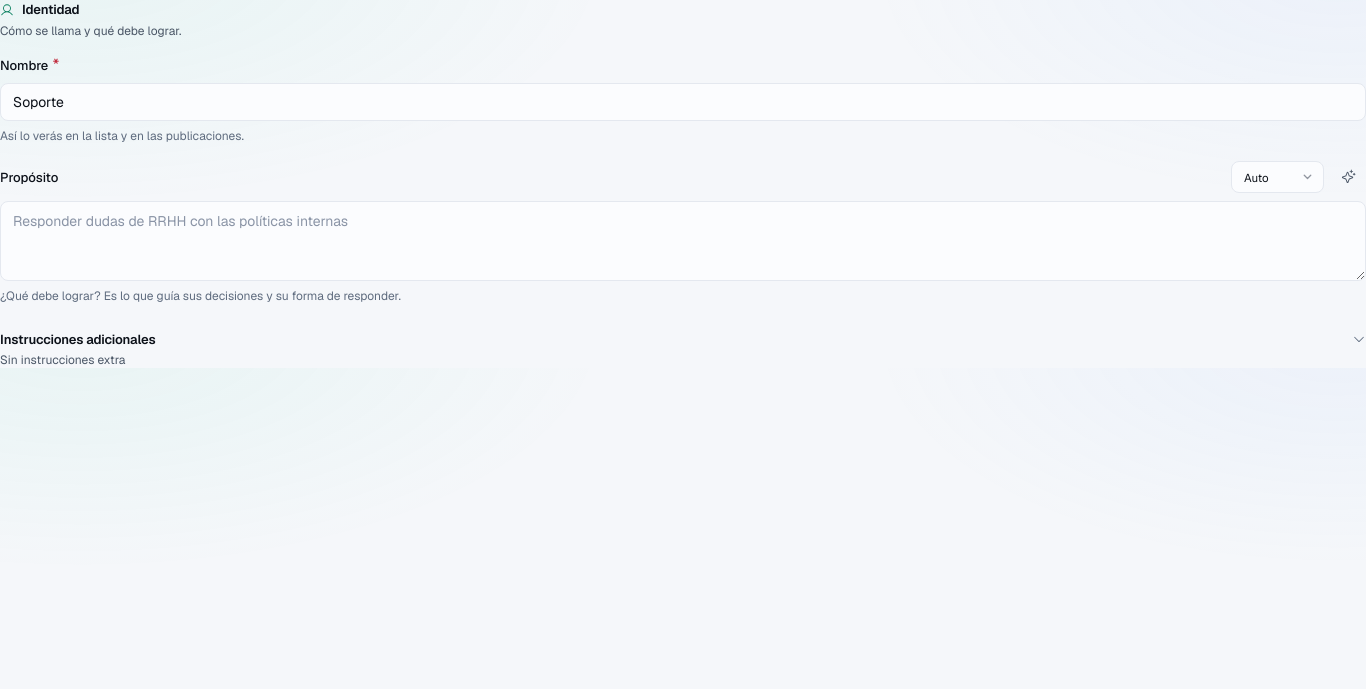
AgentPurposeForm › sin fallos: propuesta lista sin guardar
This screenshot has width=1366, height=689.
Click the button named "Generar propósito con IA": (1348, 176) [1330,158,1365,194]
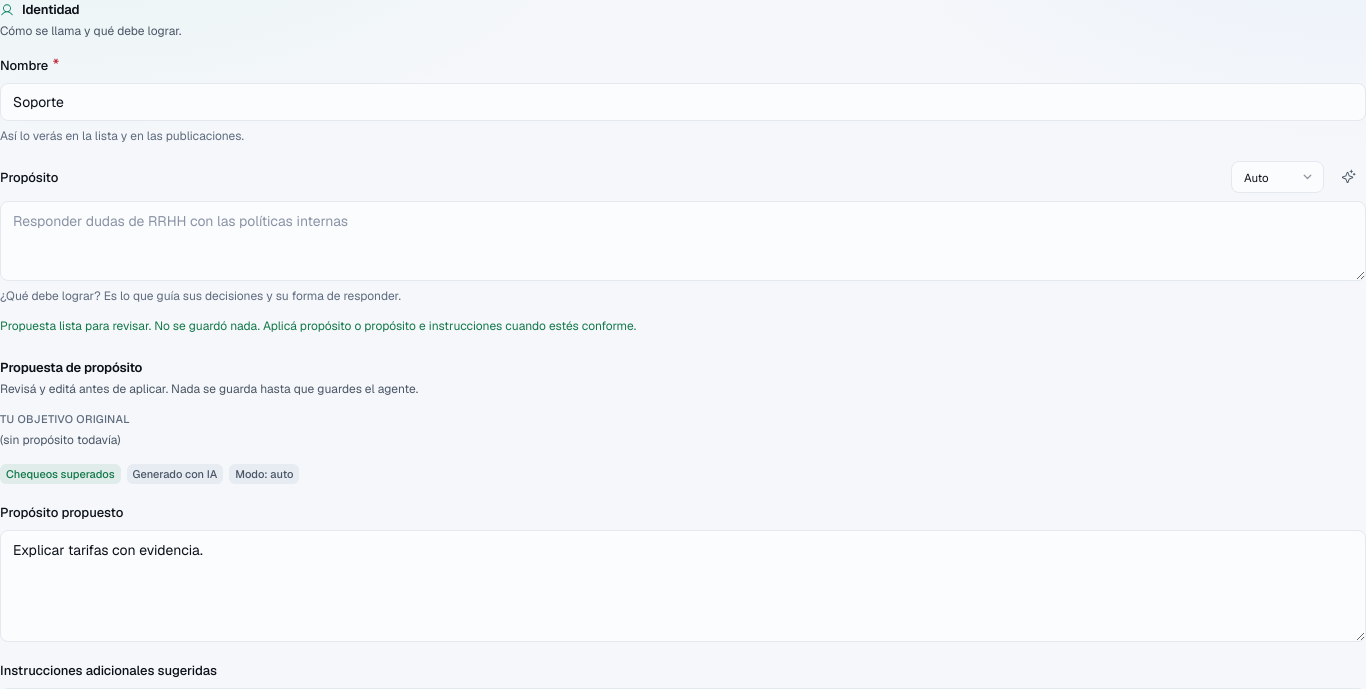
Expected: the message shows "Propuesta lista para revisar", [0,318,636,334]
Expected: the message shows "No se guardó nada", [0,318,636,334]
